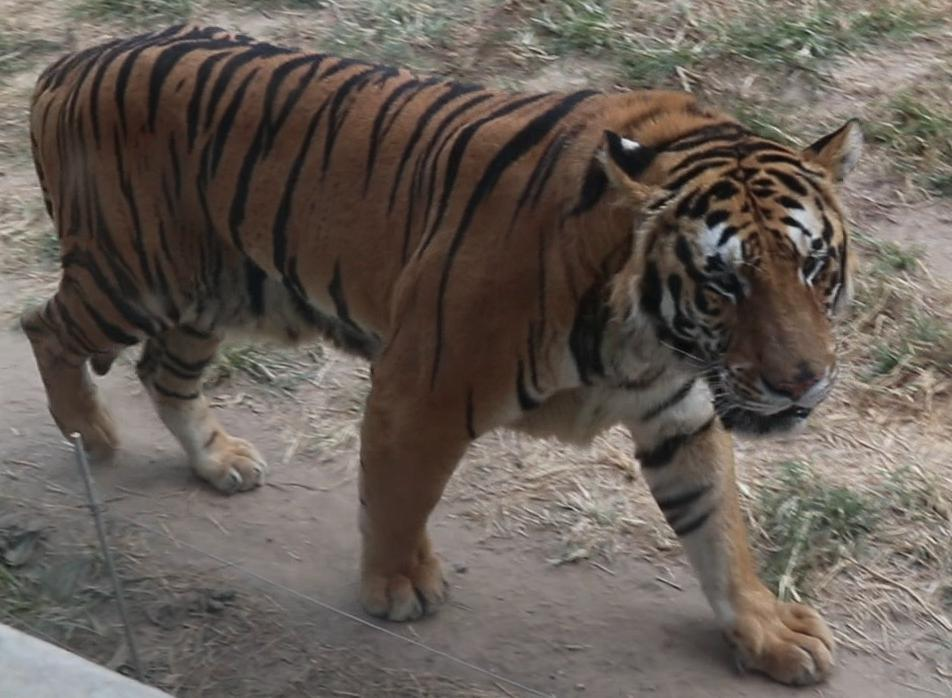tiger: (23, 25, 860, 684)
